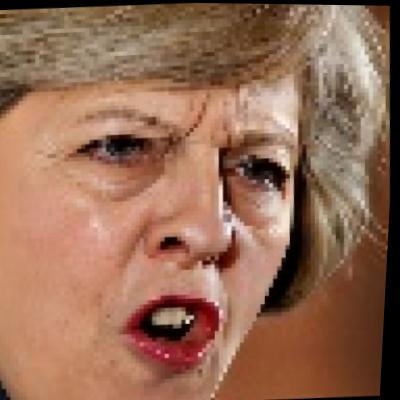angry: (0, 6, 312, 400)
